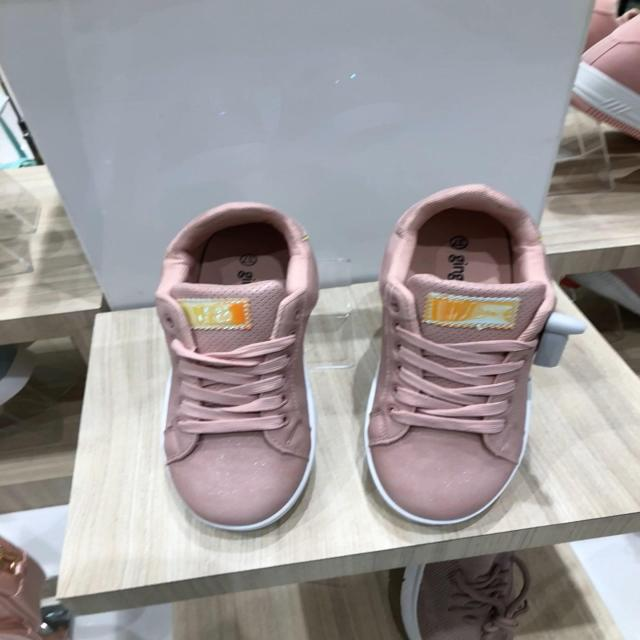shoe: (363, 185, 556, 528), (153, 209, 320, 536)
